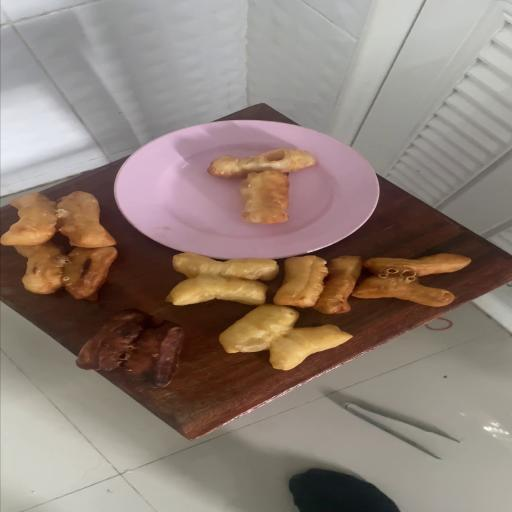street_burnt_defect: (75, 308, 181, 385), (10, 244, 119, 298)
